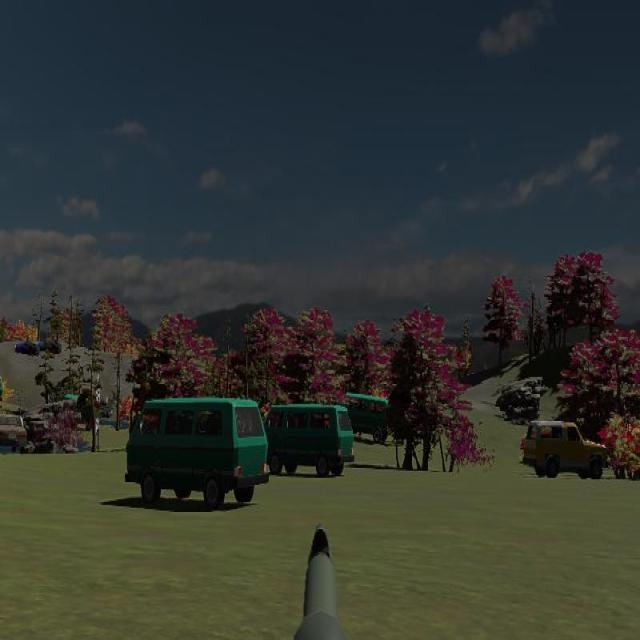car: (125, 395, 269, 509), (265, 402, 354, 478), (522, 419, 608, 480), (337, 391, 390, 443), (0, 412, 27, 454)
